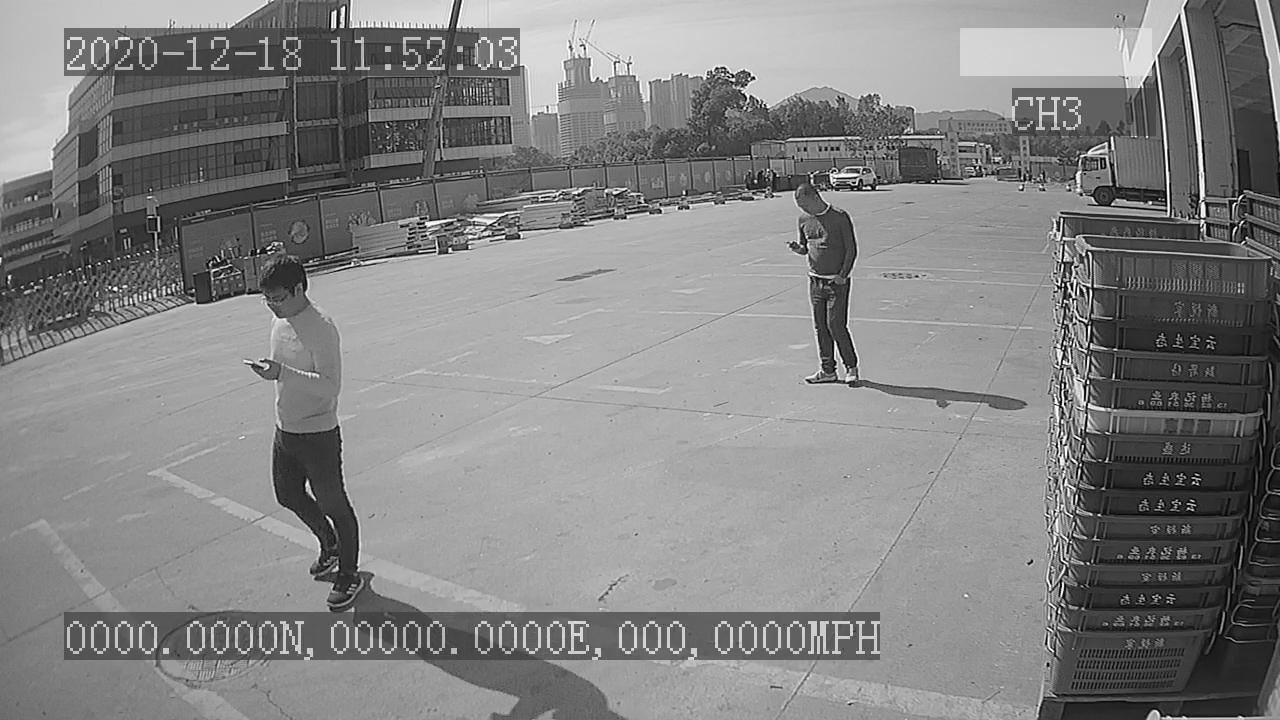person: (229, 251, 372, 610), (779, 179, 874, 392)
